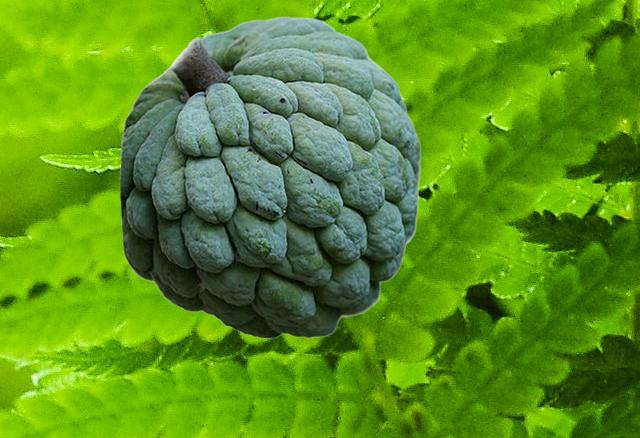atis: (119, 16, 420, 338)
